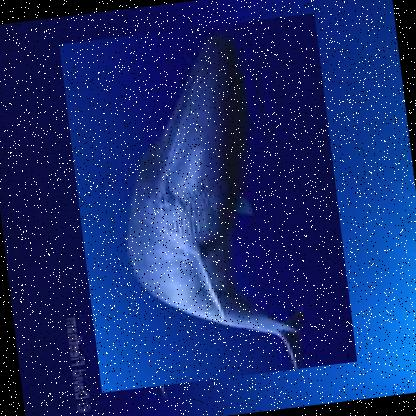blue_whale: (57, 12, 356, 392)
